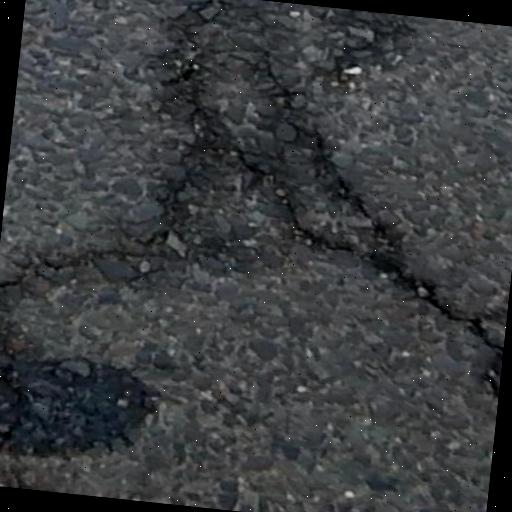spalling: (228, 59, 505, 366), (0, 238, 143, 297)
